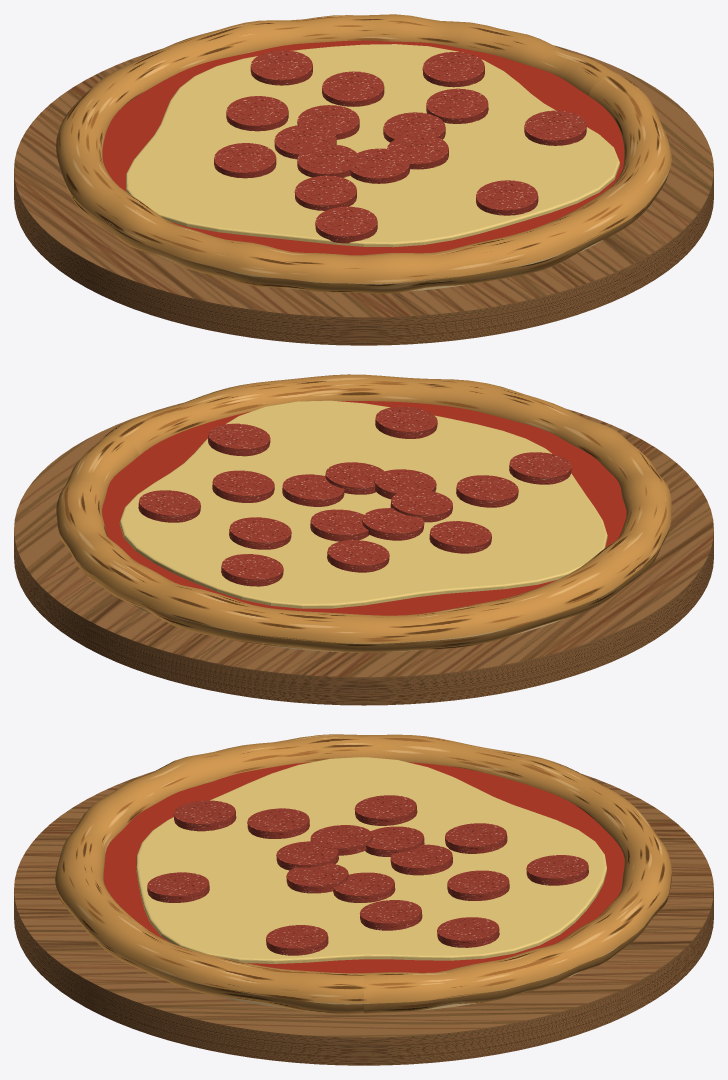
The model's file is pizza-calabresa.glb.
3 renders of one model, top to bottom at view 1: azimuth 30°, elevation 25°; view 2: azimuth 150°, elevation 25°; view 3: azimuth 270°, elevation 25°, orthographic.
Bounding box in the file's own units: 0.36 × 0.0359 × 0.36.
Materials: 6 (3 with a texture image).
